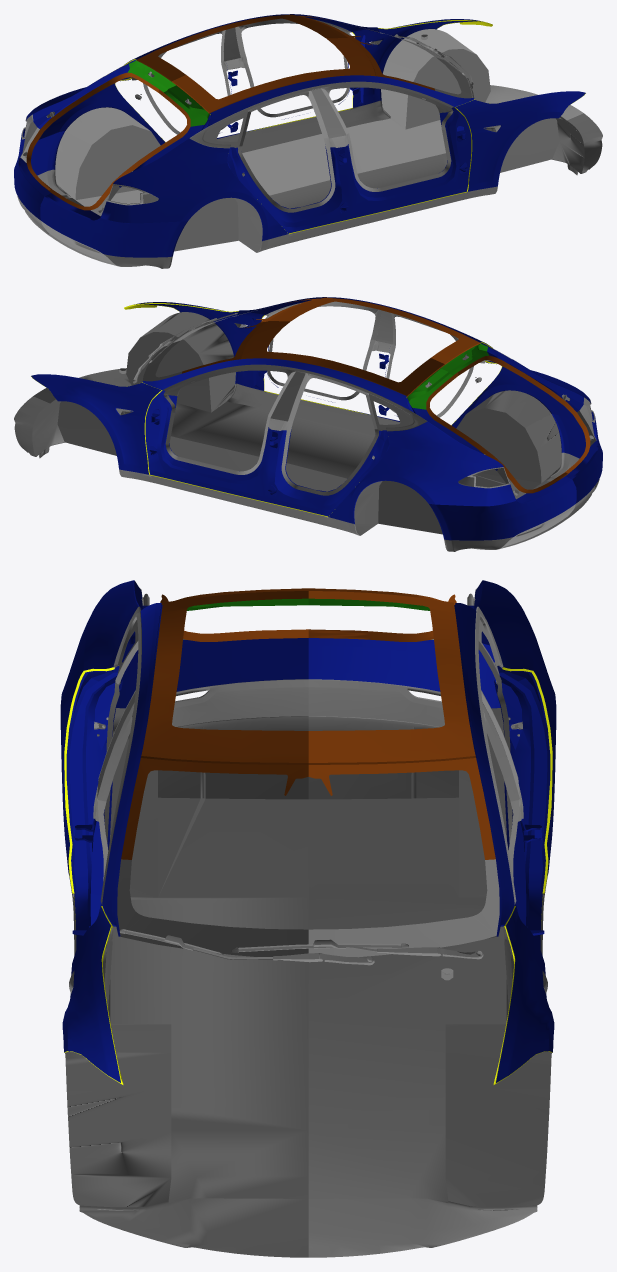
The model's file is Body_Original.obj.
3 views of the same model, one above another, from view 1: azimuth 30°, elevation 25°; view 2: azimuth 150°, elevation 25°; view 3: azimuth 270°, elevation 25° (orthographic). The views are drawn at different scales.
Parts seen in each view (by area): view 1: Body_Original; view 2: Body_Original; view 3: Body_Original.
Part boxes in pixels (<box>): Body_Original: <box>14,14,602,268</box>; Body_Original: <box>14,297,602,551</box>; Body_Original: <box>60,580,556,1257</box>.
Size of the model in its own units: 4.96 by 1.31 by 1.96.
